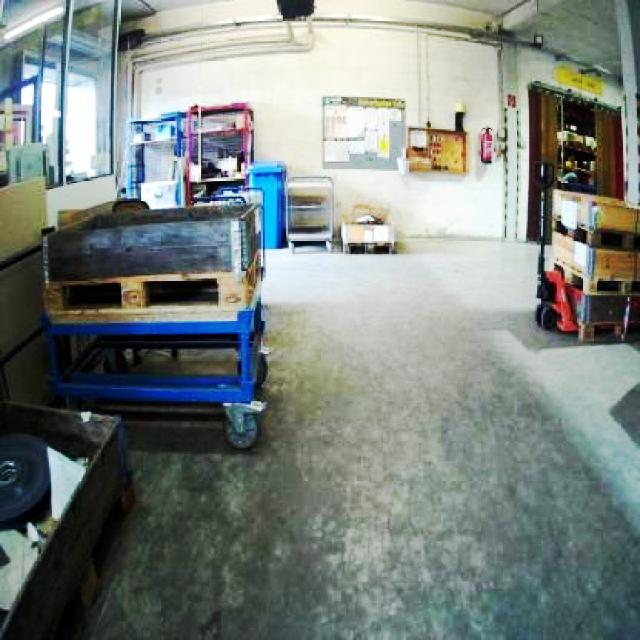ground: (52, 235, 638, 638)
pallet: (40, 195, 269, 448), (0, 395, 131, 638), (46, 197, 263, 311), (548, 188, 638, 342), (0, 172, 48, 405), (563, 283, 638, 342), (285, 174, 334, 252), (405, 125, 468, 174), (338, 202, 395, 254)
